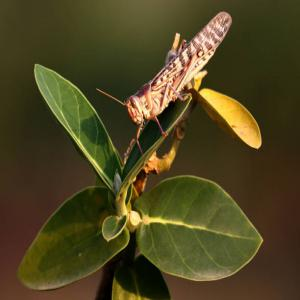locust: (121, 6, 238, 118)
